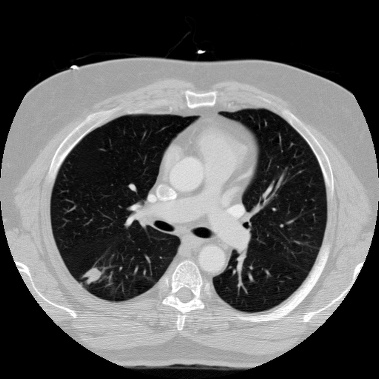PN: (85, 268, 99, 282)
